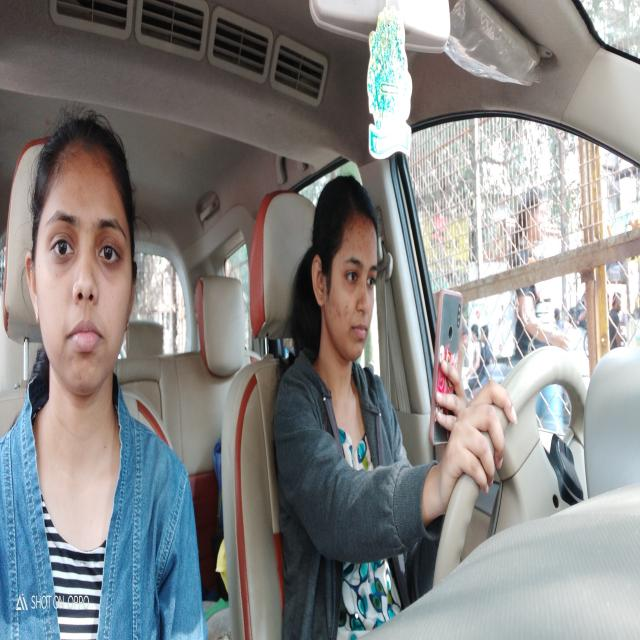mobile: (428, 276, 466, 444)
person: (24, 102, 138, 403), (308, 177, 382, 371)
